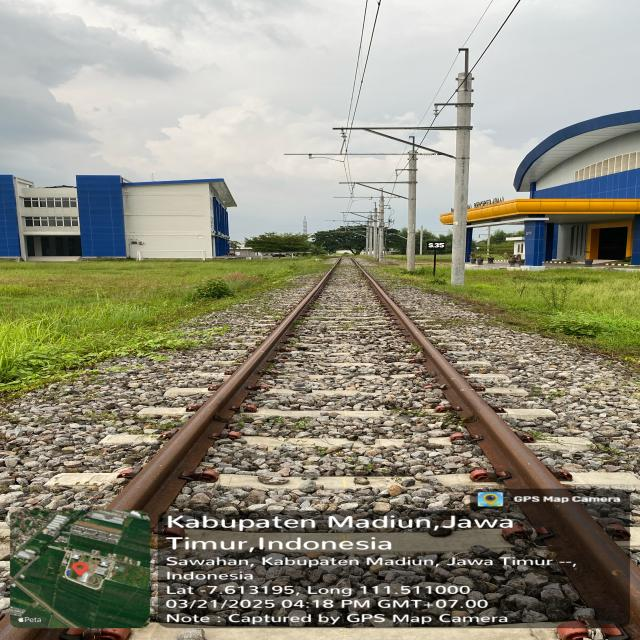rail-detection: (352, 257, 634, 622), (106, 258, 340, 528)
